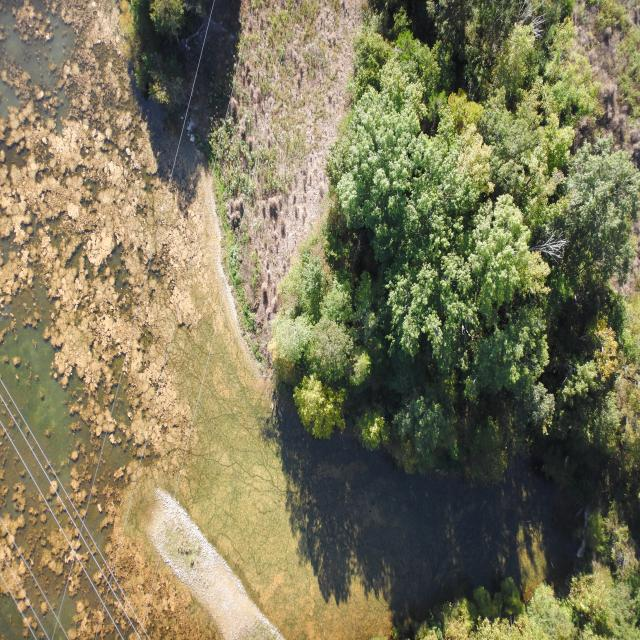Area of Interest: (290, 28, 636, 450)
